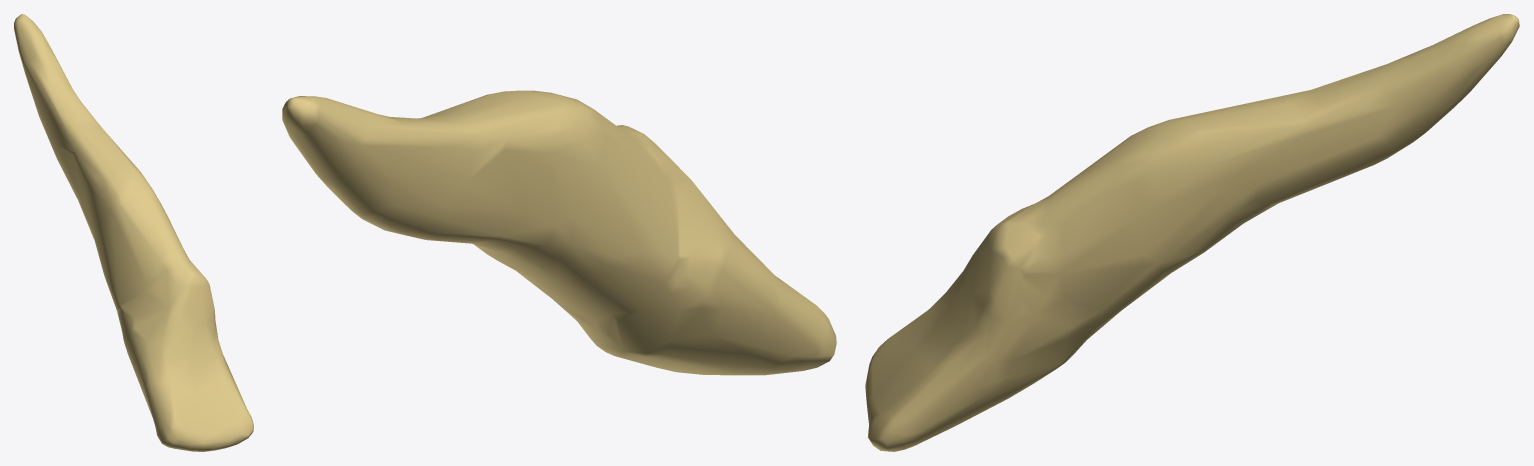
The picture shows the model from 3 angles, left to right: view 1: azimuth 30°, elevation 25°; view 2: azimuth 150°, elevation 25°; view 3: azimuth 270°, elevation 25°; orthographic projection. The views are drawn at different scales.
Visible parts, largest first — view 1: 右侧下颌中切牙; view 2: 右侧下颌中切牙; view 3: 右侧下颌中切牙.
Part boxes in pixels (box(x1,y1,x2,y2)): 右侧下颌中切牙: box(14, 14, 253, 451); 右侧下颌中切牙: box(282, 90, 836, 375); 右侧下颌中切牙: box(865, 14, 1519, 451).
Bounding box in the file's own units: 0.00902 × 0.0264 × 0.0364.
